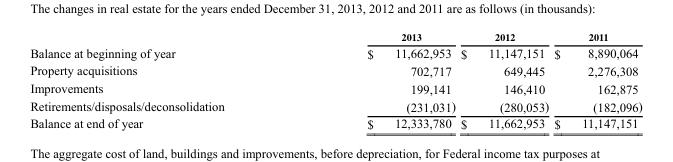table: (29, 29, 641, 131)
table column: (29, 29, 295, 131), (295, 29, 457, 131), (457, 29, 550, 131), (550, 29, 641, 131)
table column header: (29, 29, 641, 44)
table row: (29, 61, 641, 79), (29, 79, 641, 97), (29, 44, 641, 61), (29, 97, 641, 114), (29, 114, 641, 131), (29, 29, 641, 44)
